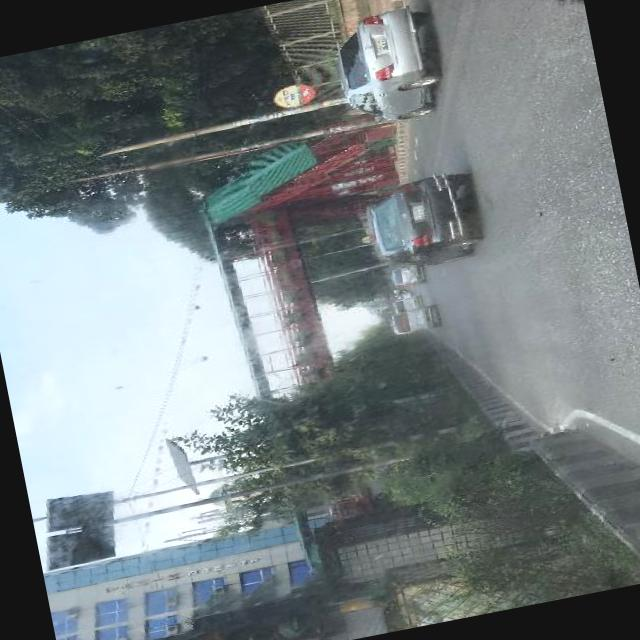car: (327, 0, 452, 133), (366, 165, 486, 273), (389, 260, 425, 288)
truck: (384, 303, 439, 335), (390, 293, 422, 310)
